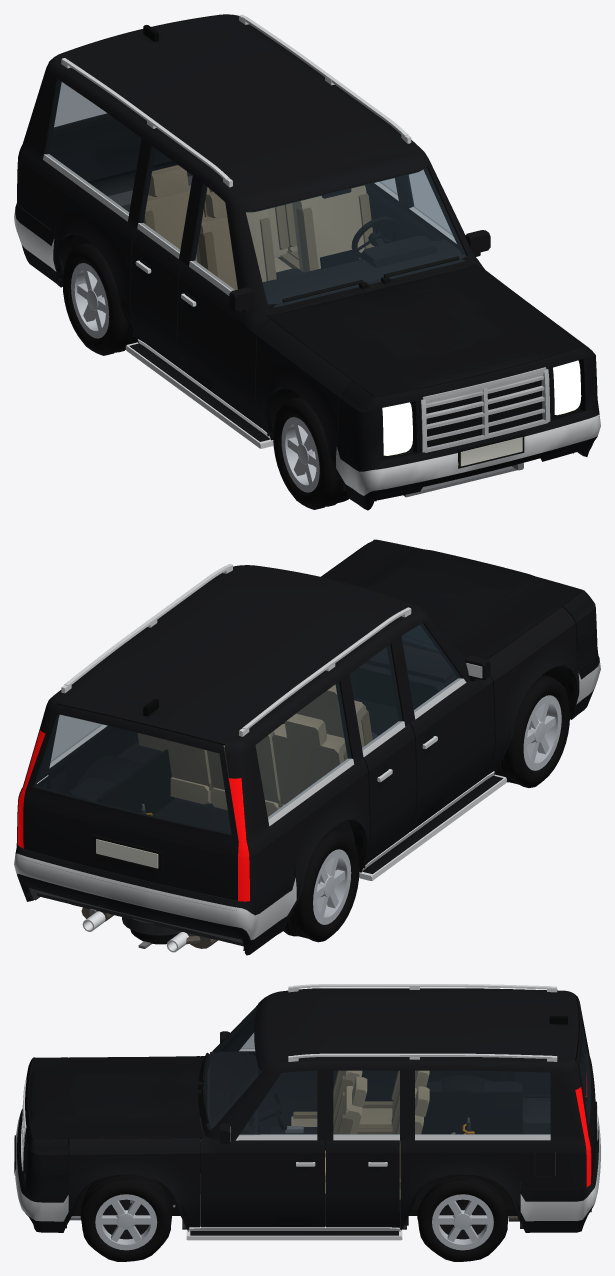
Rendered from escapade_2009.glb.
The picture shows the model from 3 angles, top to bottom: view 1: azimuth 30°, elevation 25°; view 2: azimuth 150°, elevation 25°; view 3: azimuth 270°, elevation 25°; orthographic projection. The views are drawn at different scales.
Parts seen in each view (by area): view 1: body, glass, bumper_front, interior, bonnet, trim, chrome, wheel_fr, wheel_rr, underside, bumper_rear, headlight_r (+1 smaller); view 2: body, glass, interior, bonnet, bumper_rear, underside, chrome, trim, wheel_rr, wheel_fr, bumper_front, taillights; view 3: body, glass, interior, bonnet, underside, chrome, wheel_fl, wheel_rl, bumper_front, bumper_rear, trim, taillights.
Part boxes in pixels (x1,y1,x2,y2): body: (17, 14, 566, 478); glass: (45, 79, 465, 307); bumper_front: (336, 330, 600, 510); interior: (50, 116, 470, 307); bonnet: (266, 264, 583, 397); trim: (44, 25, 580, 479); chrome: (43, 14, 456, 448); wheel_fr: (273, 396, 349, 509); wheel_rr: (62, 243, 137, 355); underside: (16, 163, 573, 501); bumper_rear: (14, 160, 174, 287); headlight_r: (382, 402, 412, 455); body: (18, 555, 579, 911); glass: (34, 623, 461, 834); interior: (36, 645, 457, 842); bonnet: (323, 540, 583, 659); bumper_rear: (14, 843, 296, 955); underside: (15, 666, 578, 950); chrome: (49, 564, 506, 952); trim: (17, 622, 503, 911); wheel_rr: (283, 829, 359, 942); wheel_fr: (495, 675, 569, 787); bumper_front: (347, 539, 600, 719); taillights: (17, 730, 249, 901); body: (68, 988, 595, 1231); glass: (203, 1007, 590, 1135); interior: (197, 1014, 585, 1225); bonnet: (29, 1056, 208, 1140); underside: (65, 1064, 599, 1229); chrome: (186, 984, 591, 1240); wheel_fl: (80, 1175, 171, 1261); wheel_rl: (417, 1176, 508, 1261); bumper_front: (14, 1057, 69, 1232); bumper_rear: (519, 1093, 600, 1232); trim: (190, 995, 597, 1235); taillights: (575, 1072, 591, 1187).
Bounding box in the file's own units: 2.06 × 1.93 × 5.14.
